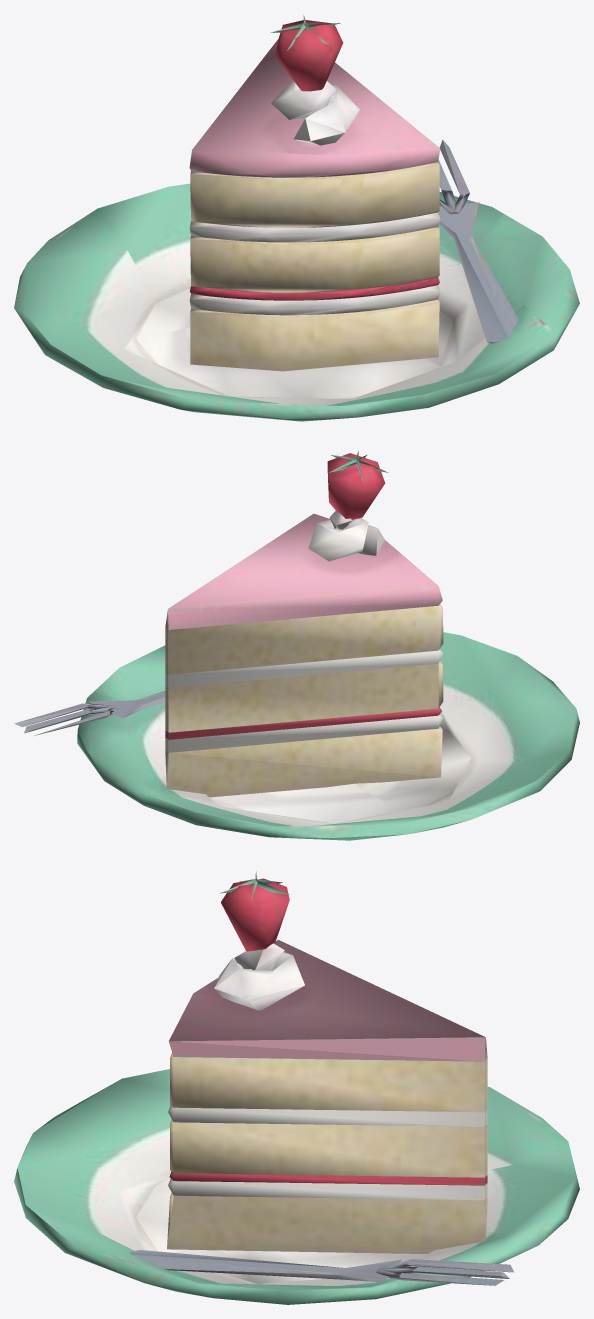
File: food-cake-slice.glb
3 views of the same model, one above another, from view 1: azimuth 30°, elevation 25°; view 2: azimuth 150°, elevation 25°; view 3: azimuth 270°, elevation 25° (orthographic). The views are drawn at different scales.
Visible parts, largest first — view 1: cake-slice_body; view 2: cake-slice_body; view 3: cake-slice_body.
Boxes of the visible parts, x1=… form: cake-slice_body: x1=14, y1=15, x2=579, y2=421; cake-slice_body: x1=14, y1=451, x2=579, y2=840; cake-slice_body: x1=14, y1=871, x2=579, y2=1304.
Bounding box in the file's own units: 3.6 × 2.44 × 3.53.
1 material, 1 textured.
